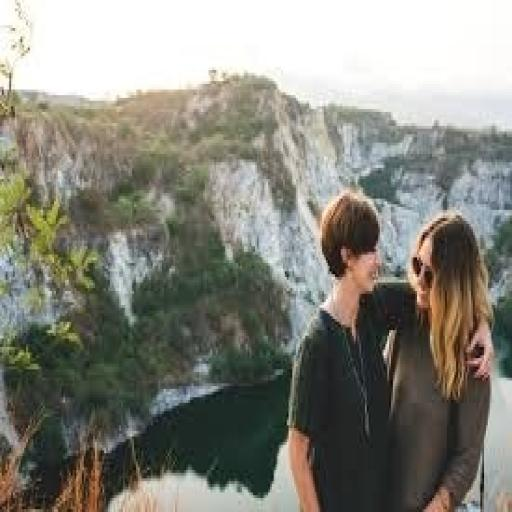hugging: (285, 188, 495, 509)
